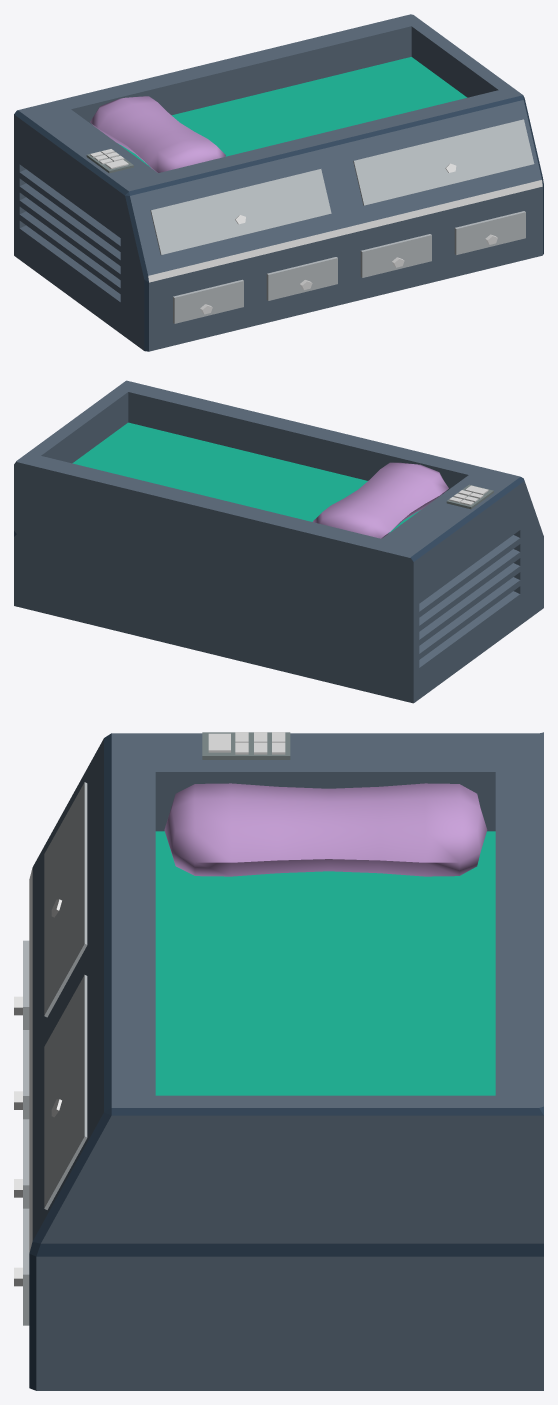
Rendered from Bed-2.fbx.
The picture shows the model from 3 angles, top to bottom: view 1: azimuth 30°, elevation 25°; view 2: azimuth 150°, elevation 25°; view 3: azimuth 270°, elevation 25°; orthographic projection. The views are drawn at different scales.
Parts seen in each view (by area): view 1: Bed-2, Pillow; view 2: Bed-2, Pillow; view 3: Bed-2, Pillow.
Part boxes in pixels (left/top/right/bottom): Bed-2: left=14, top=14, right=543, bottom=351; Pillow: left=90, top=96, right=225, bottom=172; Bed-2: left=14, top=380, right=543, bottom=703; Pillow: left=313, top=462, right=448, bottom=538; Bed-2: left=14, top=732, right=543, bottom=1390; Pillow: left=164, top=783, right=487, bottom=876.
Size of the model in its own units: 3.56 by 1.29 by 2.1.
